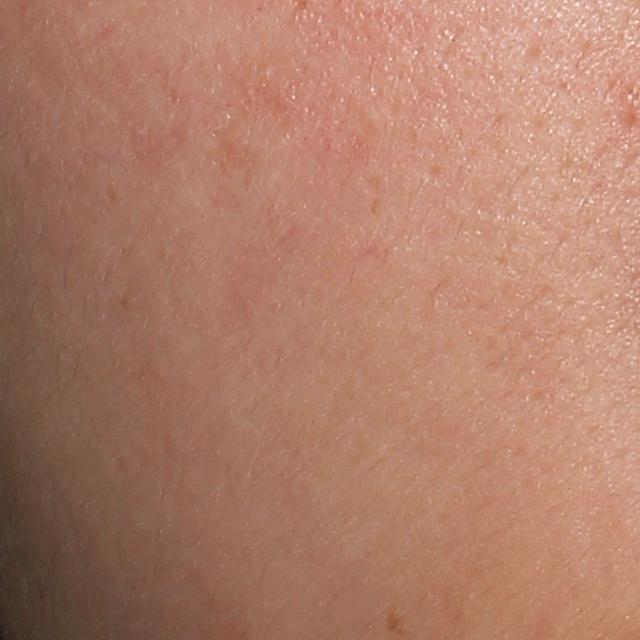melasma: (386, 605, 410, 639)
